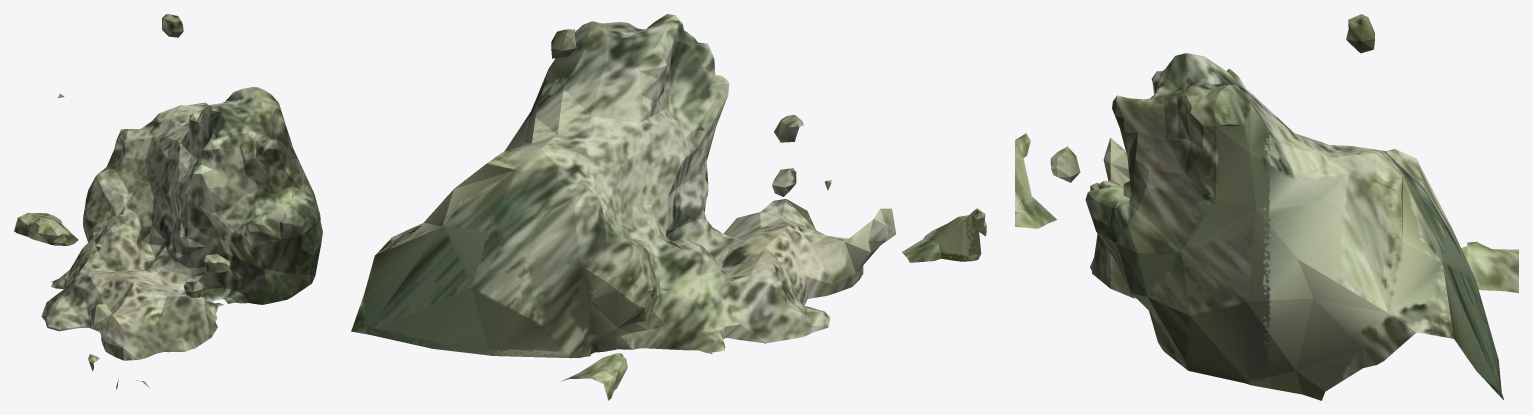
3 views of the same model, side by side, from view 1: azimuth 30°, elevation 25°; view 2: azimuth 150°, elevation 25°; view 3: azimuth 270°, elevation 25° (orthographic). The views are drawn at different scales.
Bounding box in the file's own units: 5.85 × 3.99 × 5.9.
Materials: 3 (3 with a texture image).
